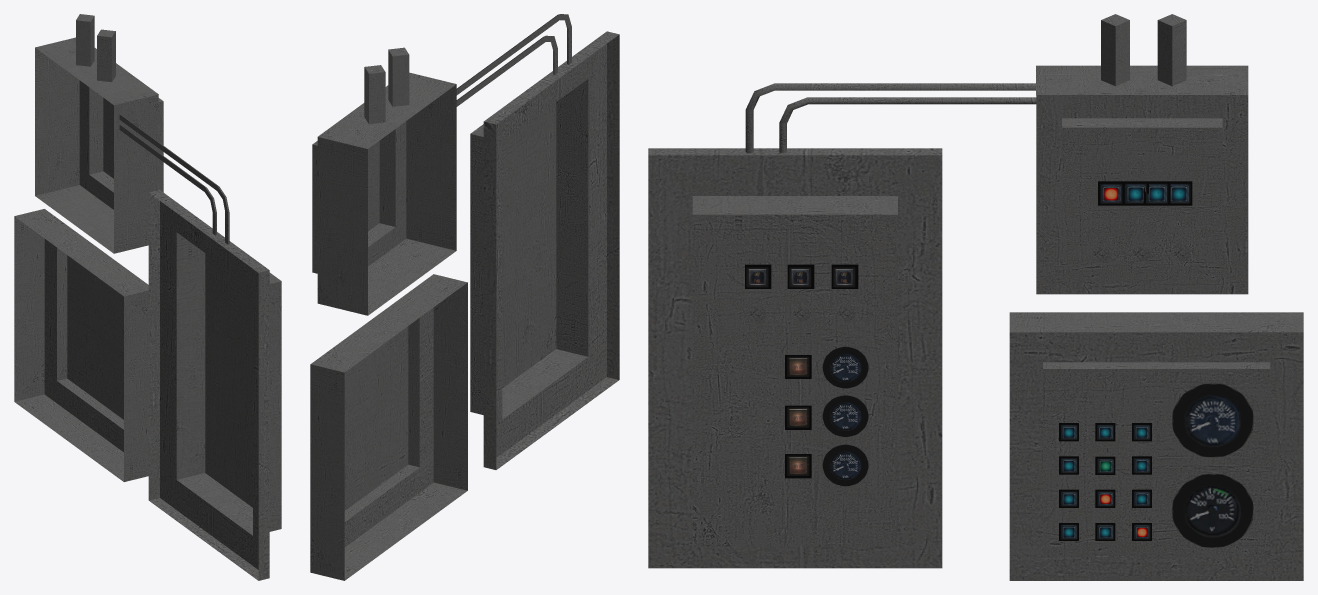
Rendered from p6_cic_mech_panel_b_white_lod1.glb.
The picture shows the model from 3 angles, left to right: view 1: azimuth 30°, elevation 25°; view 2: azimuth 150°, elevation 25°; view 3: azimuth 270°, elevation 25°; orthographic projection. The views are drawn at different scales.
Parts seen in each view (by area): view 1: surf1; view 2: surf1; view 3: surf1, surf0.
Boxes of the visible parts, x1=… form: surf1: x1=14, y1=14, x2=281, y2=580; surf1: x1=310, y1=14, x2=619, y2=580; surf1: x1=648, y1=14, x2=1303, y2=580; surf0: x1=745, y1=181, x2=1192, y2=540.
Size of the model in its own units: 10.84 by 71.79 by 76.81.
